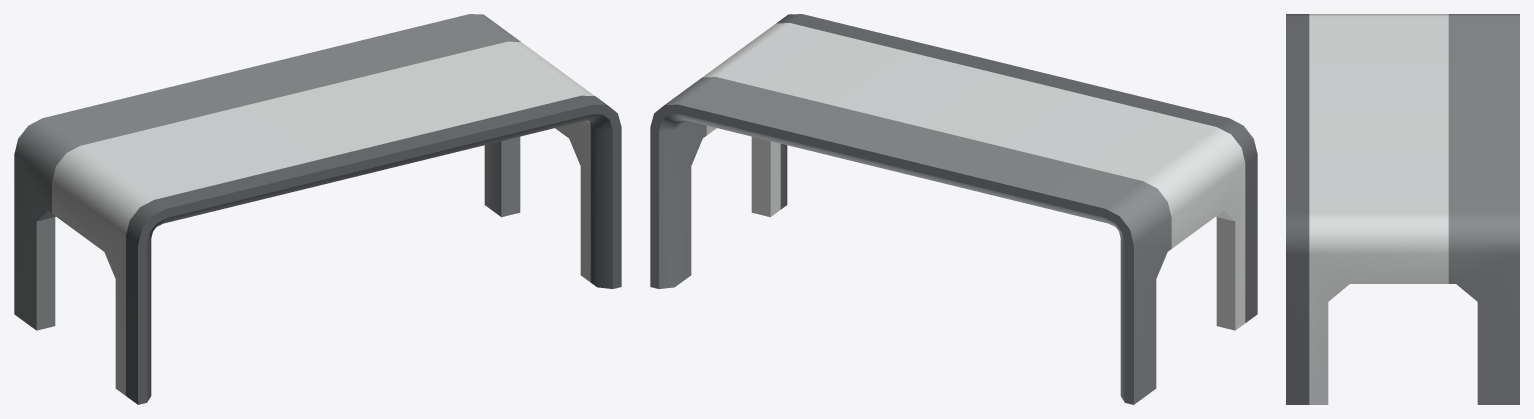
Rendered from Desk_033.fbx.
The picture shows the model from 3 angles, left to right: view 1: azimuth 30°, elevation 25°; view 2: azimuth 150°, elevation 25°; view 3: azimuth 270°, elevation 25°; orthographic projection. The views are drawn at different scales.
Visible parts, largest first — view 1: Desk_033; view 2: Desk_033; view 3: Desk_033.
Boxes of the visible parts, x1,y1,x2,y2 form: Desk_033: [14, 14, 621, 404]; Desk_033: [650, 14, 1257, 404]; Desk_033: [1286, 14, 1519, 404].
Size of the model in its own units: 235 by 104 by 87.75.
